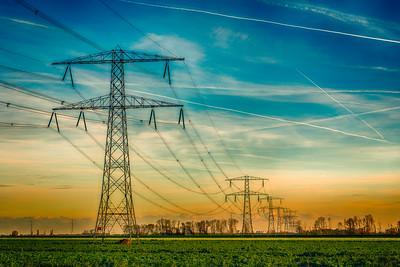power_tower: (68, 41, 188, 241), (225, 171, 270, 237)
